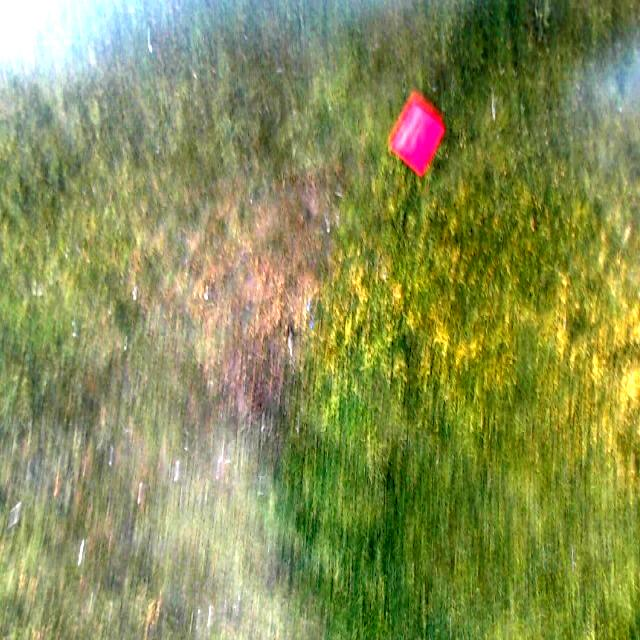red_square: (389, 96, 445, 177)
